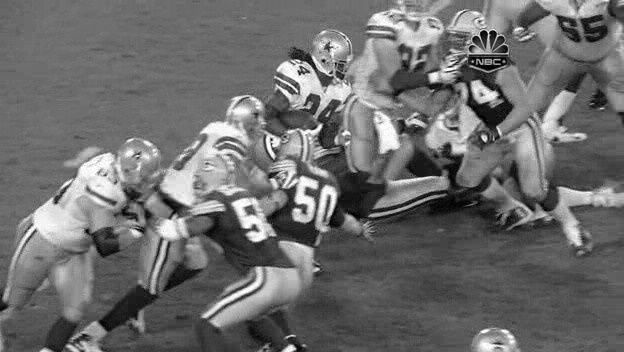person: (319, 34, 354, 78), (318, 34, 353, 78), (320, 34, 355, 78), (319, 33, 354, 77), (319, 35, 354, 79)
target_negative: (284, 250, 507, 288), (67, 224, 219, 264), (132, 278, 170, 319), (593, 227, 620, 280), (475, 173, 478, 300)
